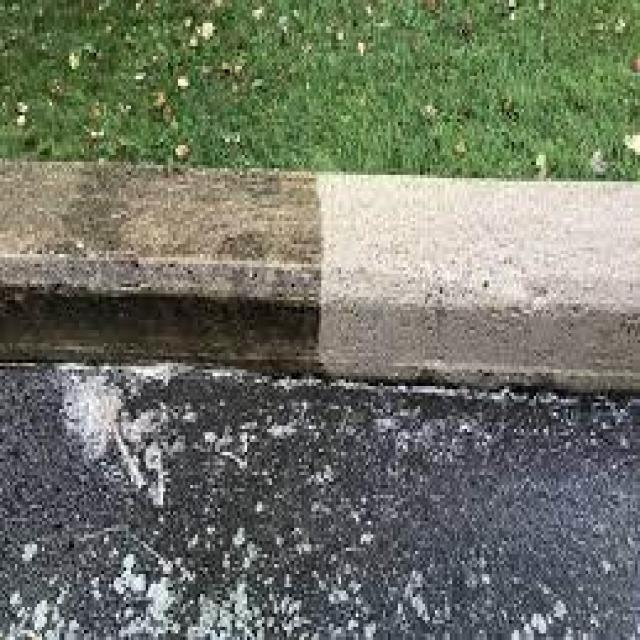curb: (318, 170, 637, 399), (8, 162, 319, 379)
